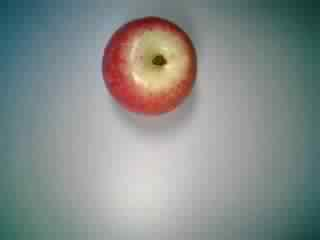apple: (95, 15, 201, 119)
